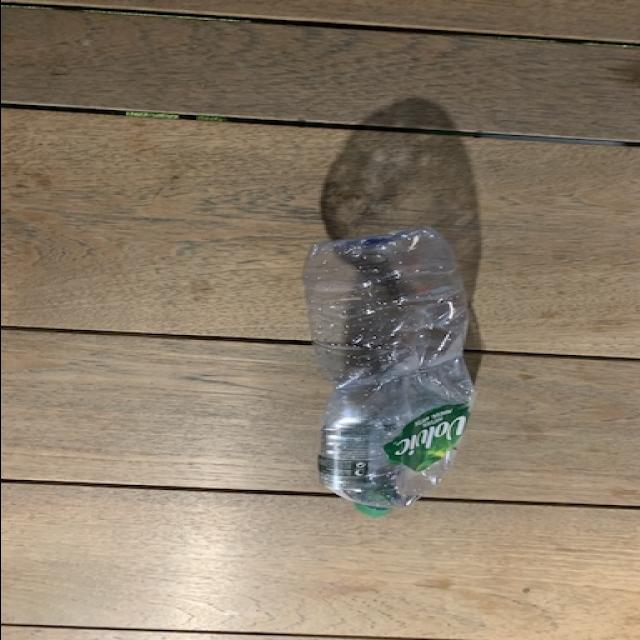PET: (304, 208, 472, 518)
